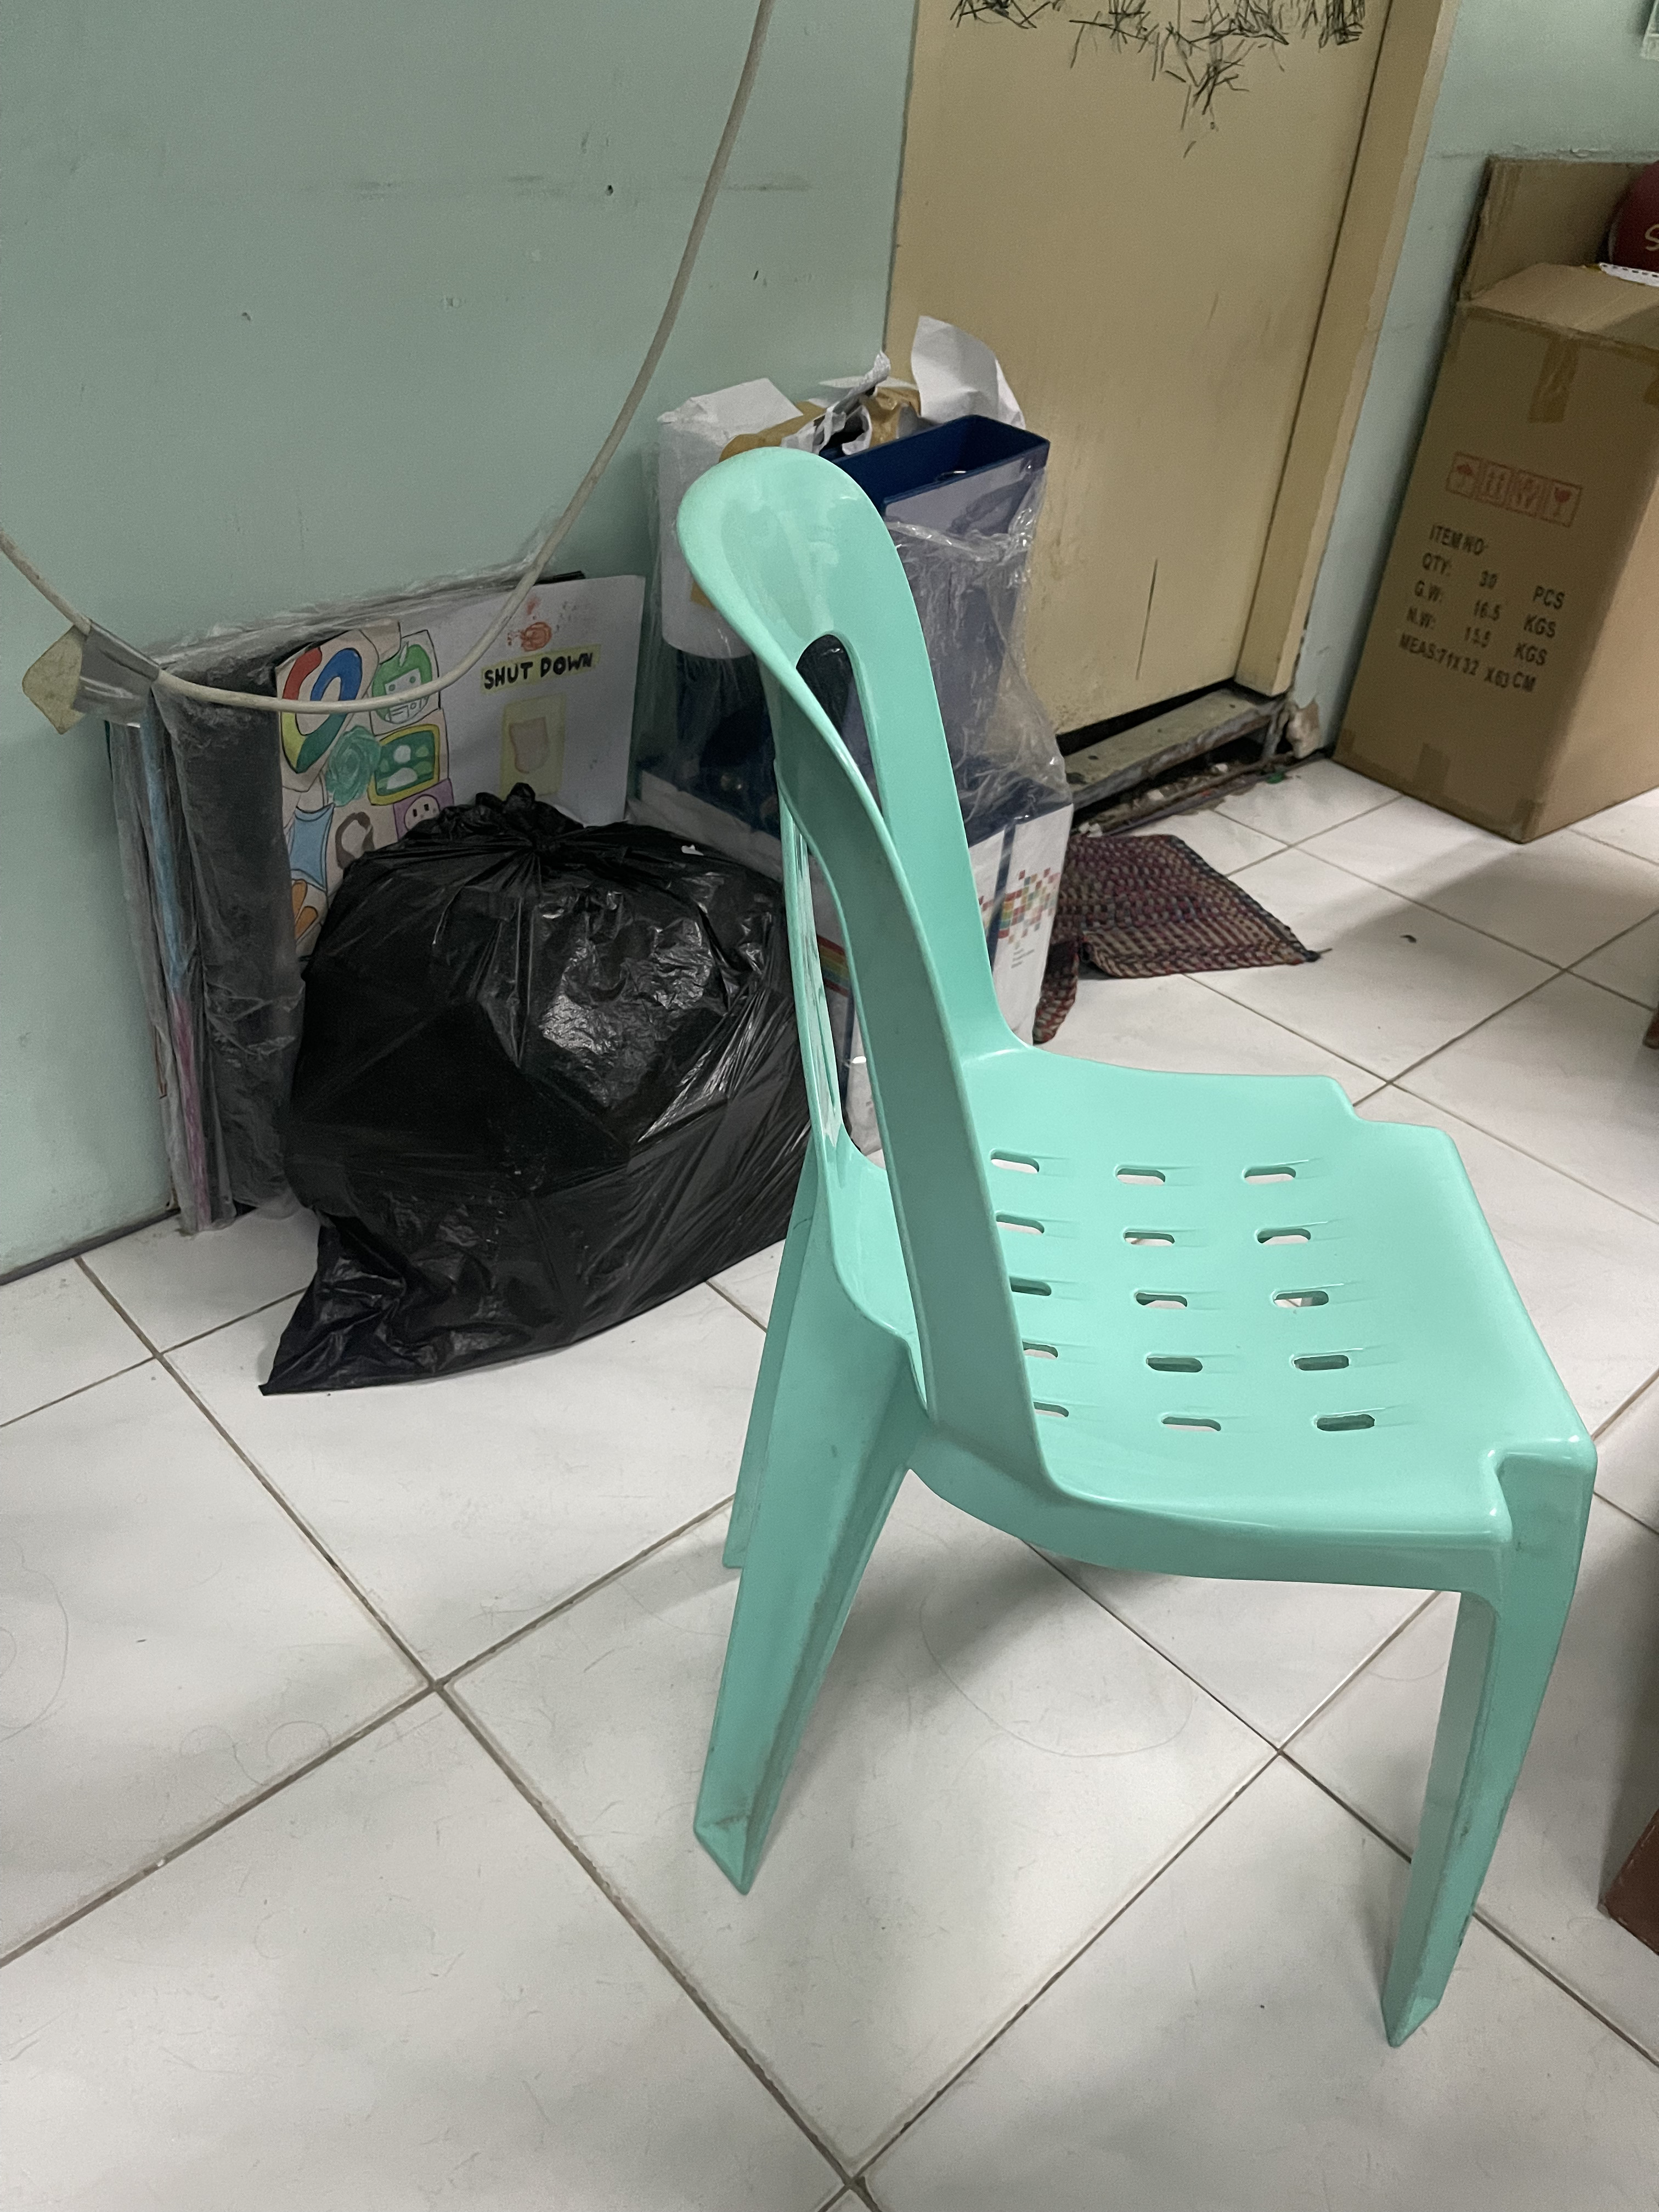chair2: (669, 446, 1608, 2078)
